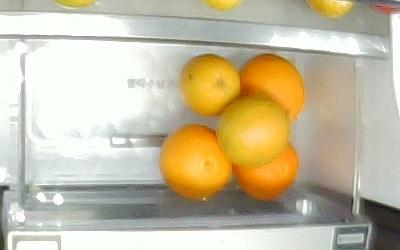orange: (160, 124, 233, 200), (216, 95, 290, 168), (238, 54, 305, 122), (232, 140, 298, 202), (181, 54, 240, 117)
